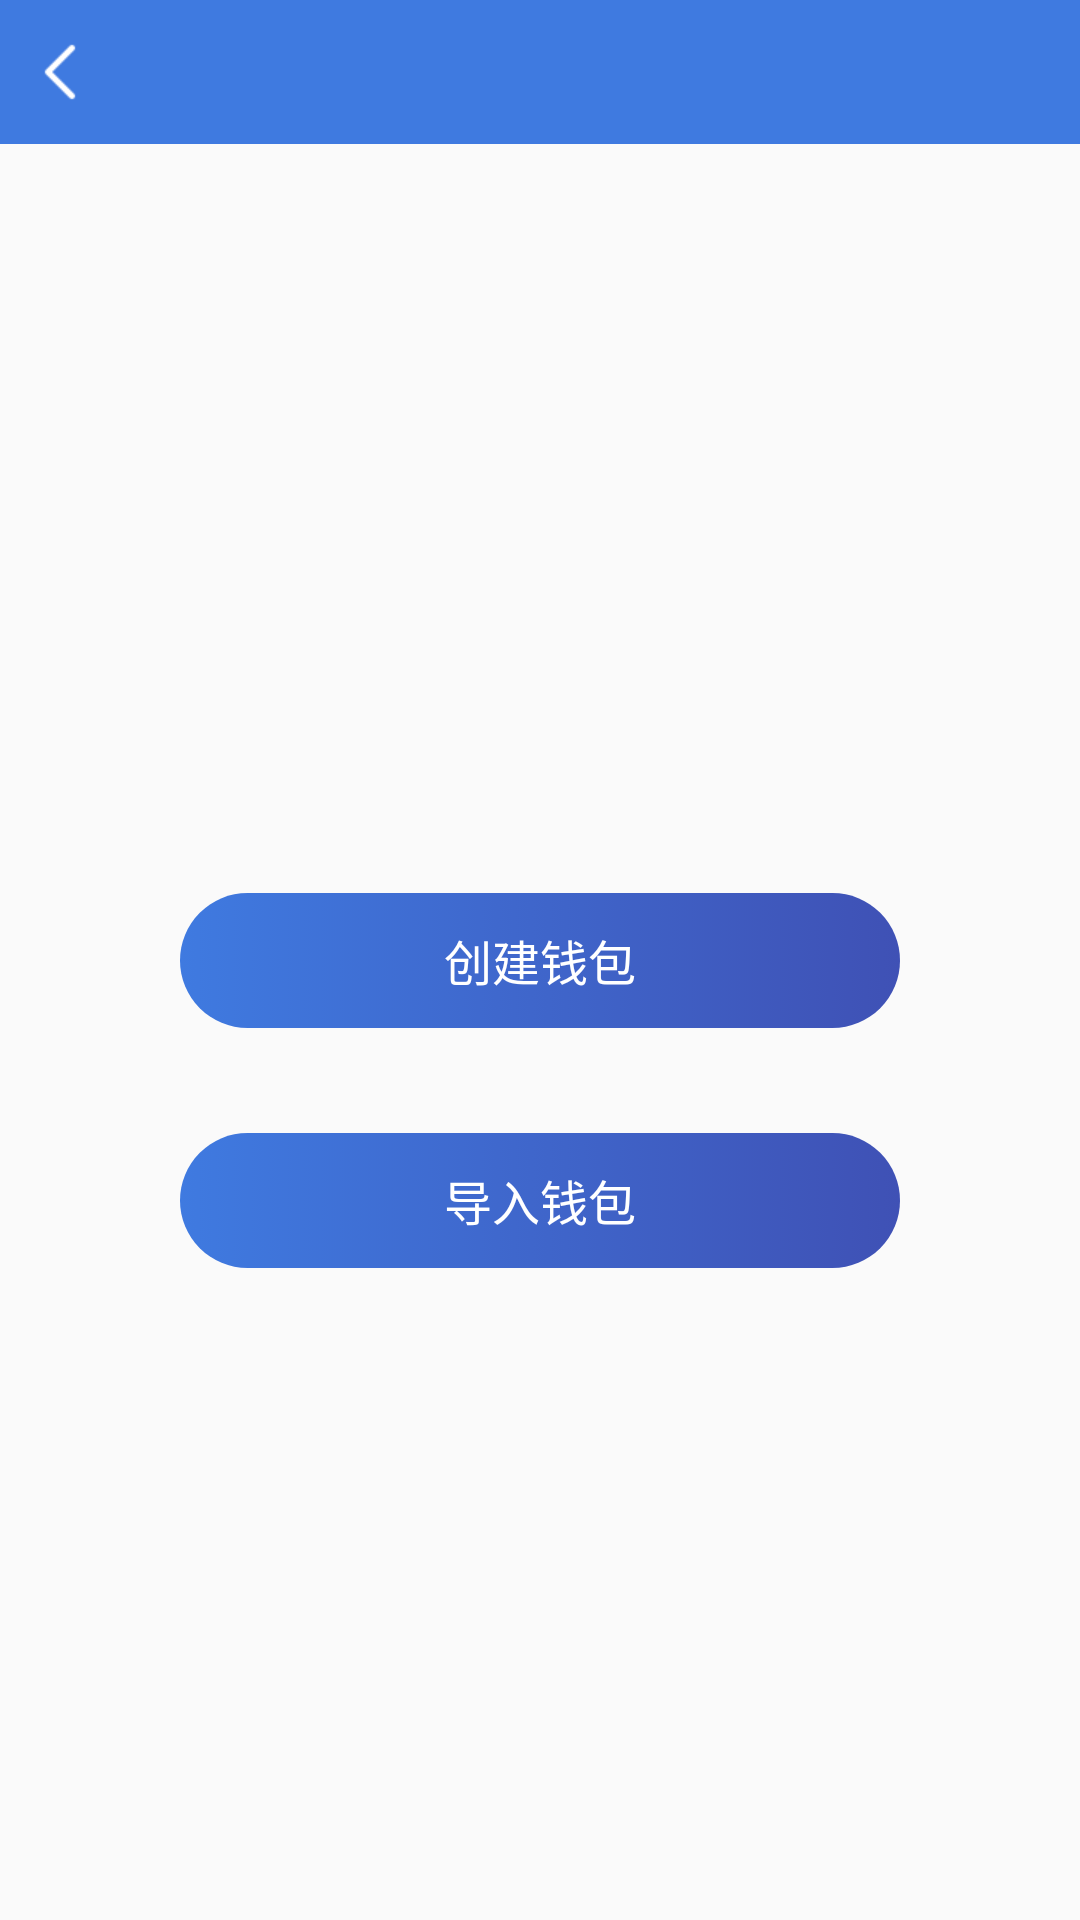

Point at icon controls on the screen. Image size 1080w x 1920h, points as [x,y].
back: [60,72]
